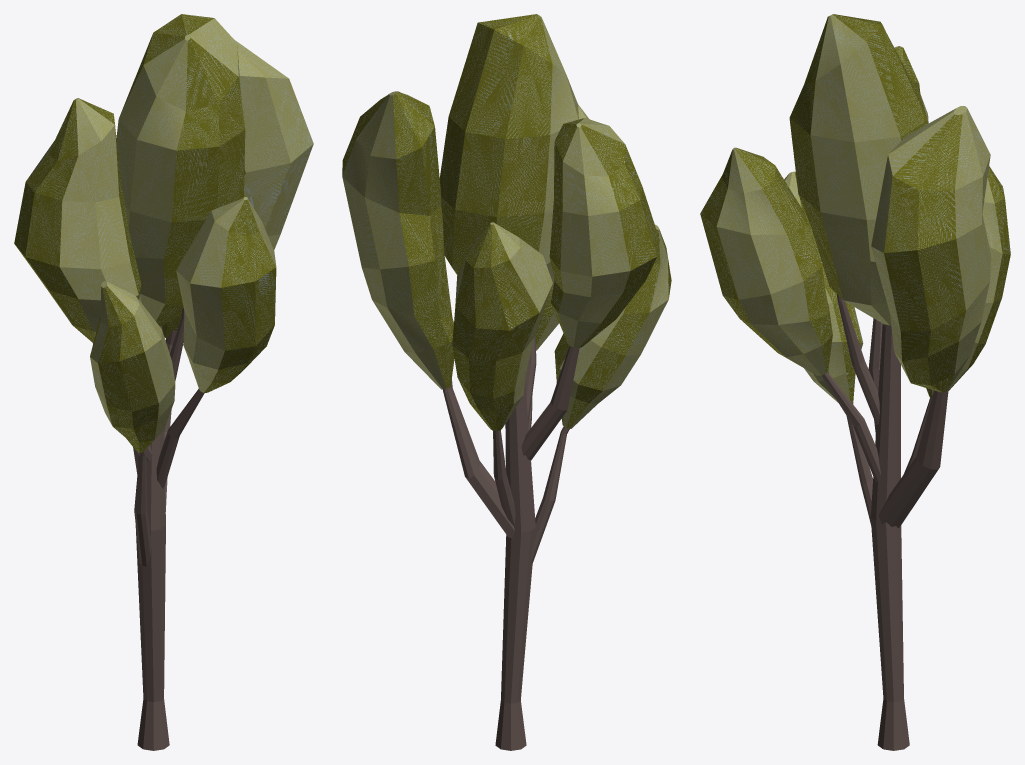
3 views of the same model, side by side, from view 1: azimuth 30°, elevation 25°; view 2: azimuth 150°, elevation 25°; view 3: azimuth 270°, elevation 25° (orthographic). The views are drawn at different scales.
Visible parts, largest first — view 1: group_0 (×2), group_3 (×2), group_2 (×2), group_4 (×2), group_1, Difference (×2), group_8; view 2: group_0 (×2), group_1 (×2), group_3 (×2), Difference (×5), group_5 (×2), group_4 (×2); view 3: group_1 (×2), group_0 (×2), group_2 (×2), Difference (×5), group_5 (×2), group_4 (×2), group_8.
Boxes of the visible parts, box(x1,y1,x2,y2) form: group_0 (×2): box(116, 14, 245, 326); group_3 (×2): box(14, 98, 141, 342); group_2 (×2): box(176, 197, 276, 392); group_4 (×2): box(90, 281, 175, 452); group_1: box(234, 39, 313, 250); Difference (×2): box(134, 326, 169, 750); group_8: box(156, 388, 204, 488); group_0 (×2): box(439, 14, 578, 291); group_1 (×2): box(342, 91, 454, 389); group_3 (×2): box(549, 118, 659, 347); Difference (×5): box(443, 346, 579, 750); group_5 (×2): box(452, 222, 552, 430); group_4 (×2): box(554, 224, 671, 428); group_1 (×2): box(871, 106, 991, 392); group_0 (×2): box(789, 14, 928, 325); group_2 (×2): box(700, 147, 832, 375); Difference (×5): box(836, 294, 948, 750); group_5 (×2): box(926, 166, 1010, 397); group_4 (×2): box(784, 171, 863, 403); group_8: box(821, 372, 881, 482).
Size of the model in its own units: 189 by 168 by 437.
